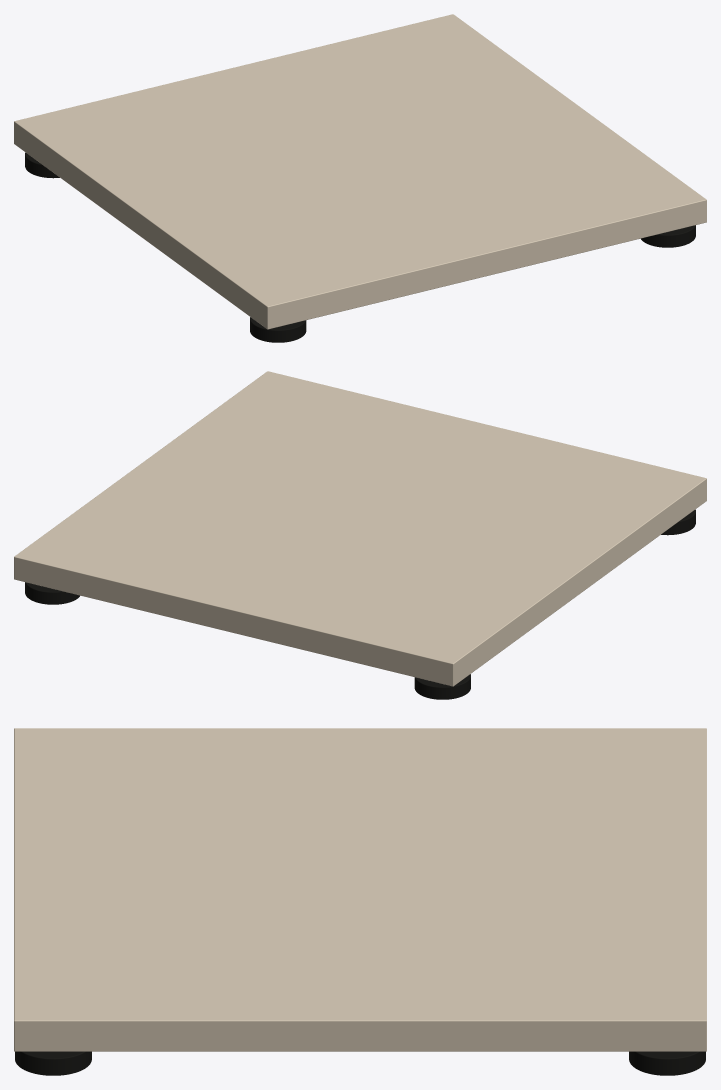
File: PLT-1X1-AR.glb
3 views of the same model, one above another, from view 1: azimuth 30°, elevation 25°; view 2: azimuth 150°, elevation 25°; view 3: azimuth 270°, elevation 25° (orthographic). The views are drawn at different scales.
Size of the model in its own units: 360 by 32 by 360.
